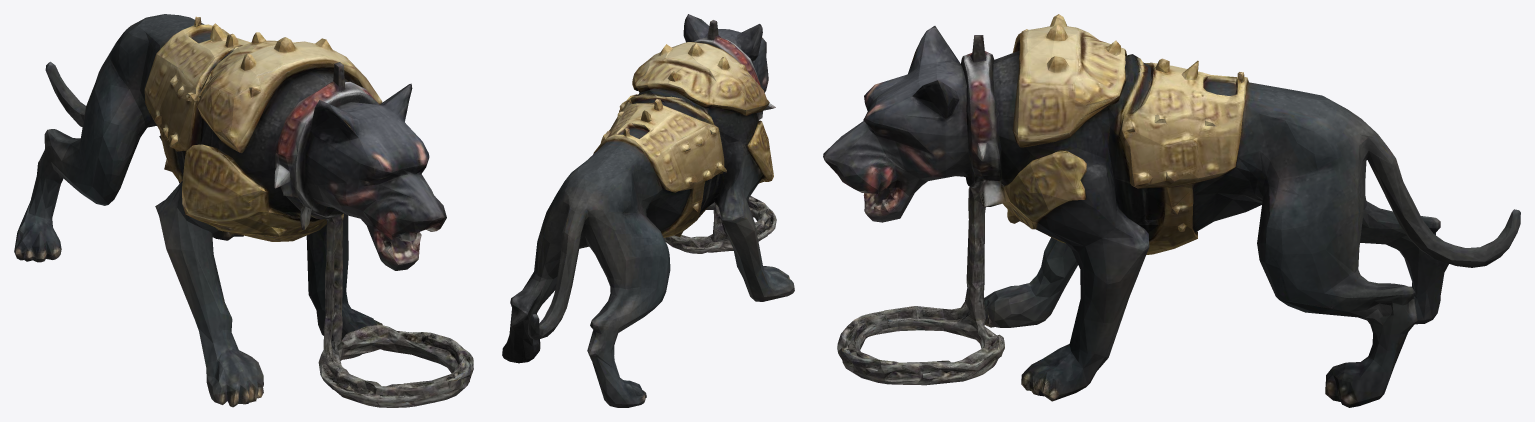
File: grandChampionPet.glb
3 views of the same model, side by side, from view 1: azimuth 30°, elevation 25°; view 2: azimuth 150°, elevation 25°; view 3: azimuth 270°, elevation 25° (orthographic). The views are drawn at different scales.
Visible parts, largest first — view 1: world; view 2: world; view 3: world.
Boxes of the visible parts, x1,y1,x2,y2 form: world: [14, 14, 473, 407]; world: [502, 14, 794, 407]; world: [823, 14, 1520, 407].
Bounding box in the file's own units: 0.3557 × 0.5288 × 1.
Materials: 1 (1 with a texture image).
